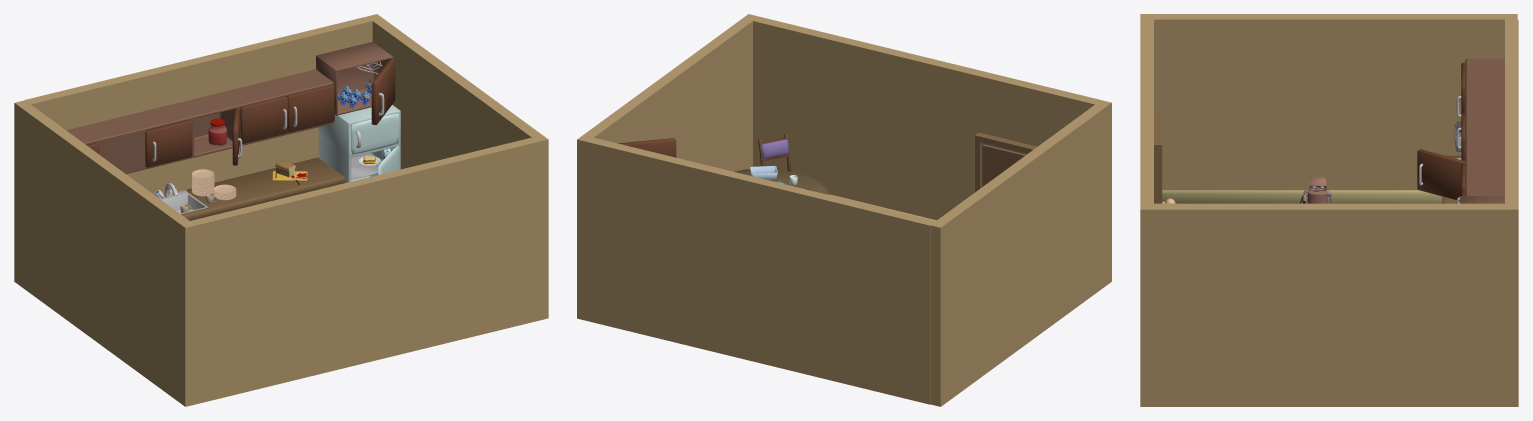
File: кофетерий.fbx
The picture shows the model from 3 angles, left to right: view 1: azimuth 30°, elevation 25°; view 2: azimuth 150°, elevation 25°; view 3: azimuth 270°, elevation 25°; orthographic projection. The views are drawn at different scales.
Parts seen in each view (by area): view 1: Cube.002, Cube.003, Cube.065, Cube.020, Cube.010, Cube.076, Cube.068, Cube.071, Cube.067, Cube.012, Cube.077, Cylinder.044 (+2 smaller); view 2: Cube.003, Cube.002, Cube.006, Cube.046, Cylinder.001, Cube.077; view 3: Cube.003, Cube.002, Cube.065, Cube.072, Cube.006, Cube.096, Cube.076, Cube.074.
Boxes of the visible parts, left/top/right/bottom form: Cube.002: left=14, top=100, right=548, bottom=406; Cube.003: left=25, top=14, right=541, bottom=196; Cube.065: left=66, top=69, right=334, bottom=173; Cube.020: left=157, top=157, right=345, bottom=220; Cube.010: left=318, top=105, right=400, bottom=182; Cube.076: left=316, top=41, right=393, bottom=115; Cube.068: left=240, top=96, right=287, bottom=144; Cube.071: left=145, top=120, right=192, bottom=167; Cube.067: left=287, top=85, right=334, bottom=132; Cube.012: left=351, top=113, right=399, bottom=154; Cube.077: left=371, top=58, right=395, bottom=125; Cylinder.044: left=191, top=169, right=214, bottom=196; Cube.003: left=577, top=18, right=935, bottom=404; Cube.002: left=743, top=14, right=1111, bottom=406; Cube.006: left=975, top=132, right=1036, bottom=192; Cube.046: left=758, top=134, right=790, bottom=171; Cylinder.001: left=734, top=169, right=828, bottom=194; Cube.077: left=618, top=138, right=676, bottom=157; Cube.003: left=1154, top=19, right=1518, bottom=406; Cube.002: left=1140, top=14, right=1517, bottom=406; Cube.065: left=1465, top=58, right=1504, bottom=195; Cube.072: left=1417, top=149, right=1465, bottom=200; Cube.006: left=1154, top=113, right=1175, bottom=203; Cube.096: left=1299, top=177, right=1332, bottom=203; Cube.076: left=1460, top=196, right=1504, bottom=203; Cube.074: left=1456, top=62, right=1465, bottom=117.
Bounding box in the file's own units: 900 × 424 × 736.
